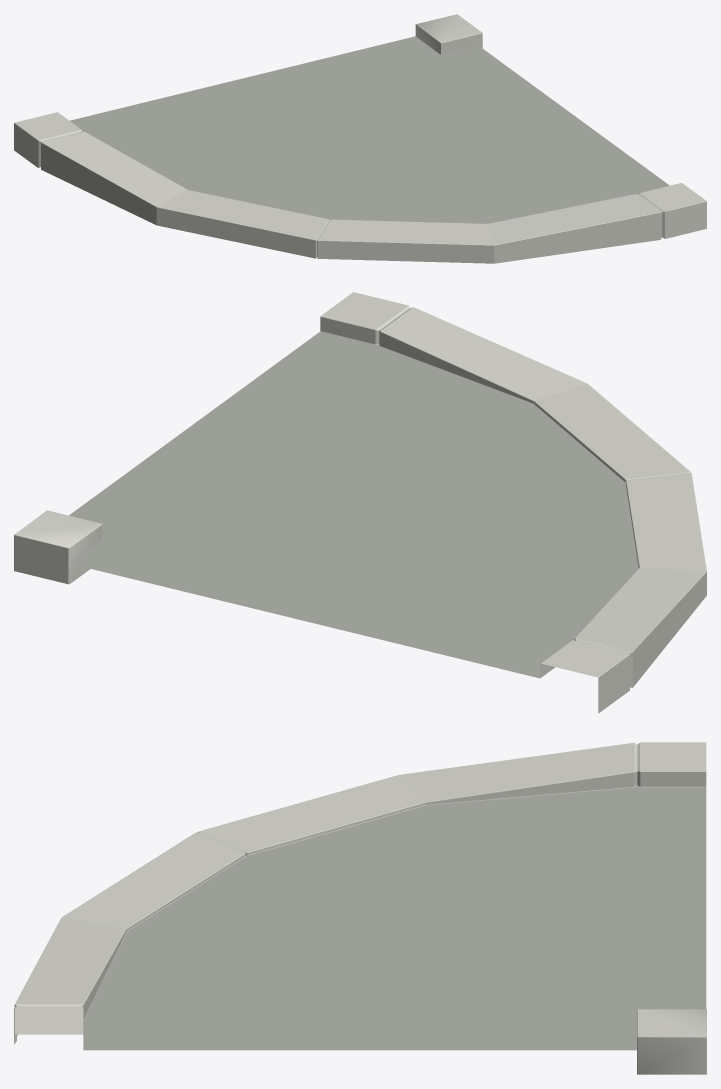
The model's file is RoundCornerSidewalk.fbx.
The picture shows the model from 3 angles, top to bottom: view 1: azimuth 30°, elevation 25°; view 2: azimuth 150°, elevation 25°; view 3: azimuth 270°, elevation 25°; orthographic projection. The views are drawn at different scales.
Visible parts, largest first — view 1: RoundCorner; view 2: RoundCorner; view 3: RoundCorner.
Part boxes in pixels (x1,y1,x2,y2): RoundCorner: (14,14,706,263); RoundCorner: (14,292,706,713); RoundCorner: (14,742,706,1074).
Bounding box in the file's own units: 202 × 12.13 × 200.
